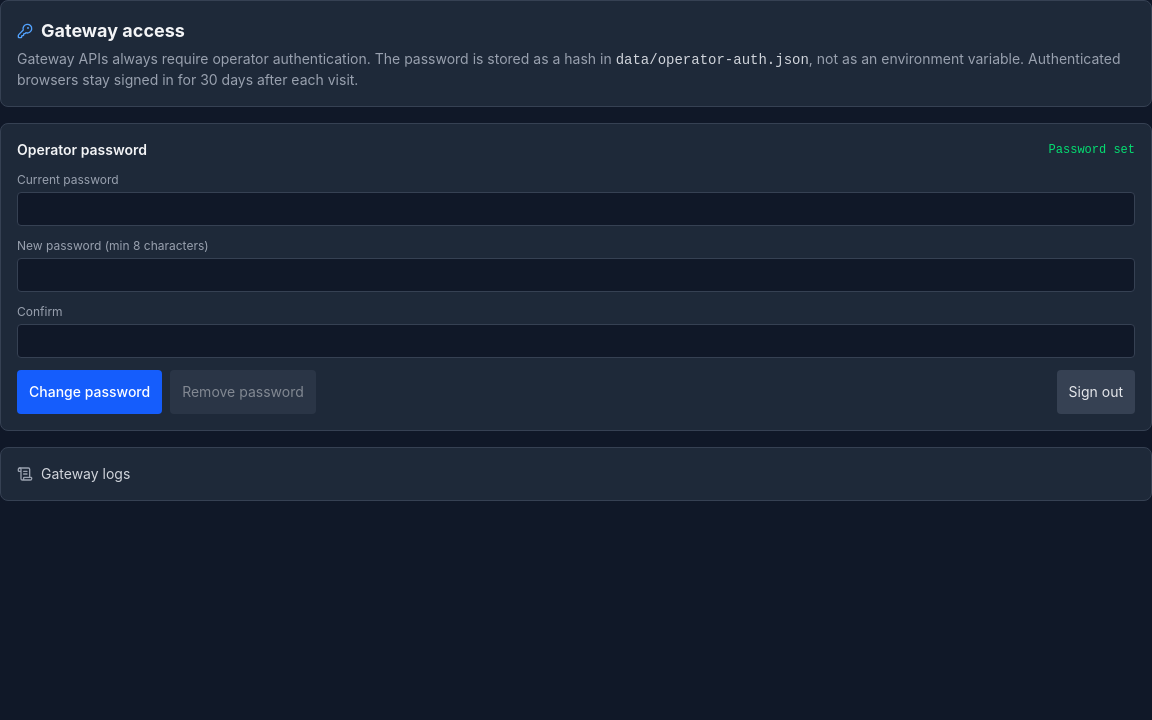
Test: GatewayAccess › sends the current password for password changes and removal
In the password field labelled "Current password": (576, 209) [17,192,1135,226], type "old-secret"
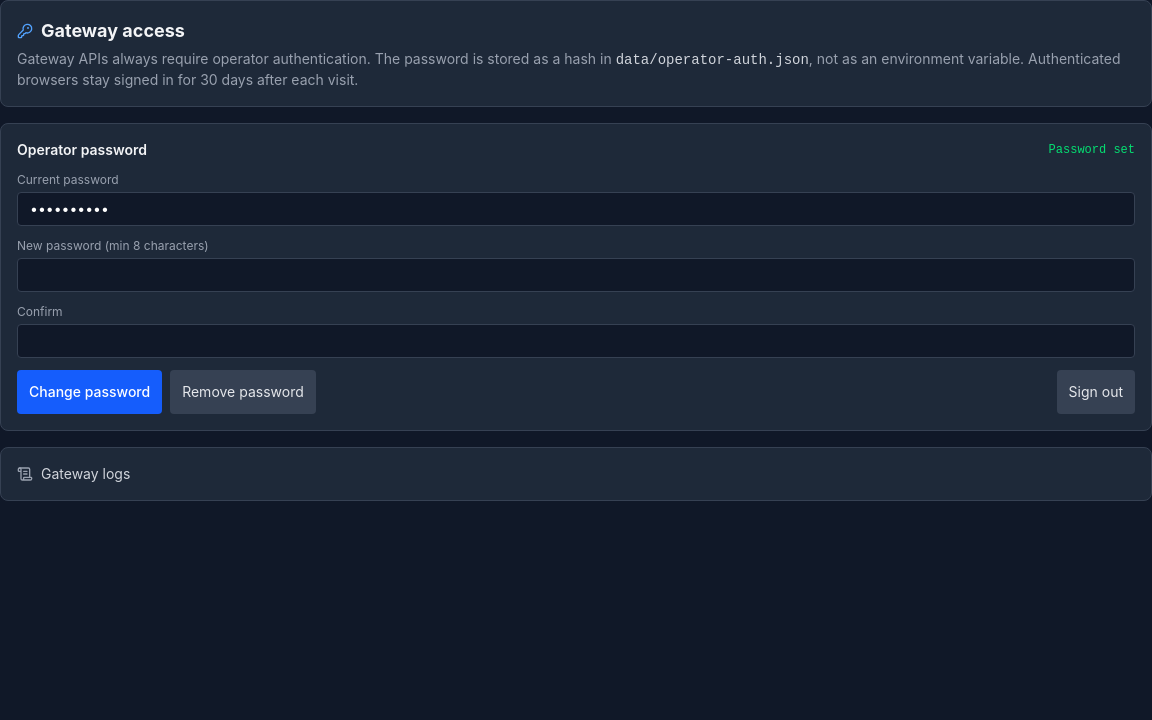
In the password field labelled "New password (min 8 characters)": (576, 275) [17,258,1135,292], type "new-secret"
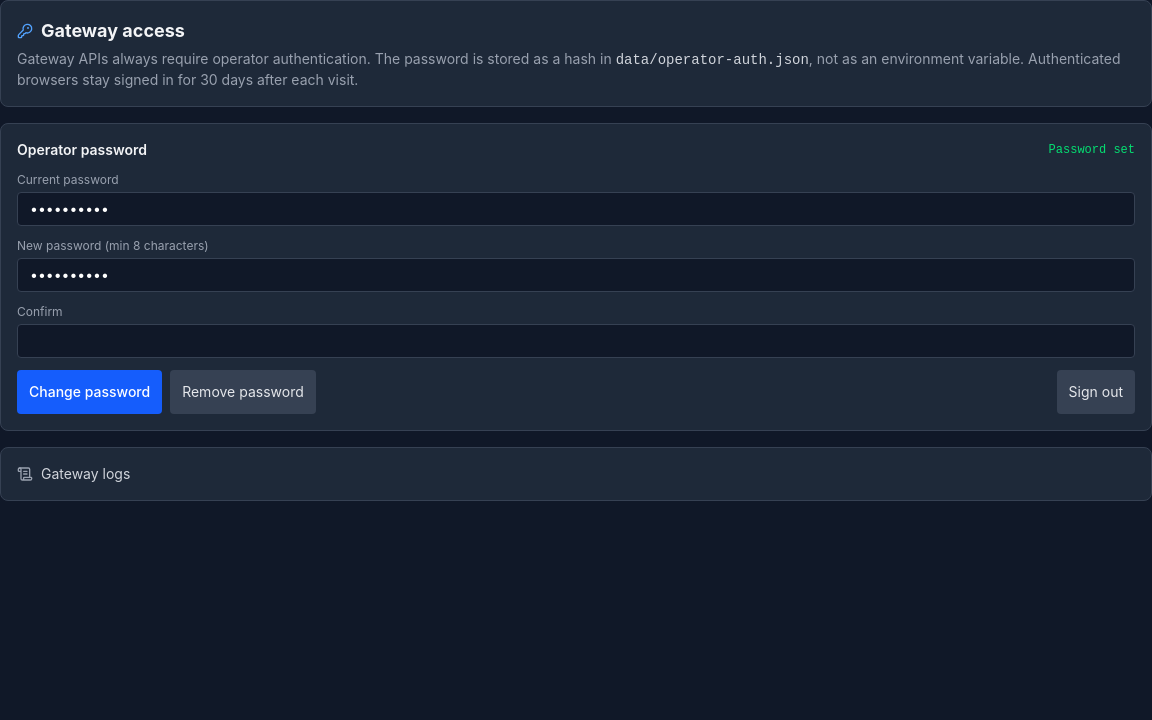
In the password field labelled "Confirm": (576, 341) [17,324,1135,358], type "new-secret"
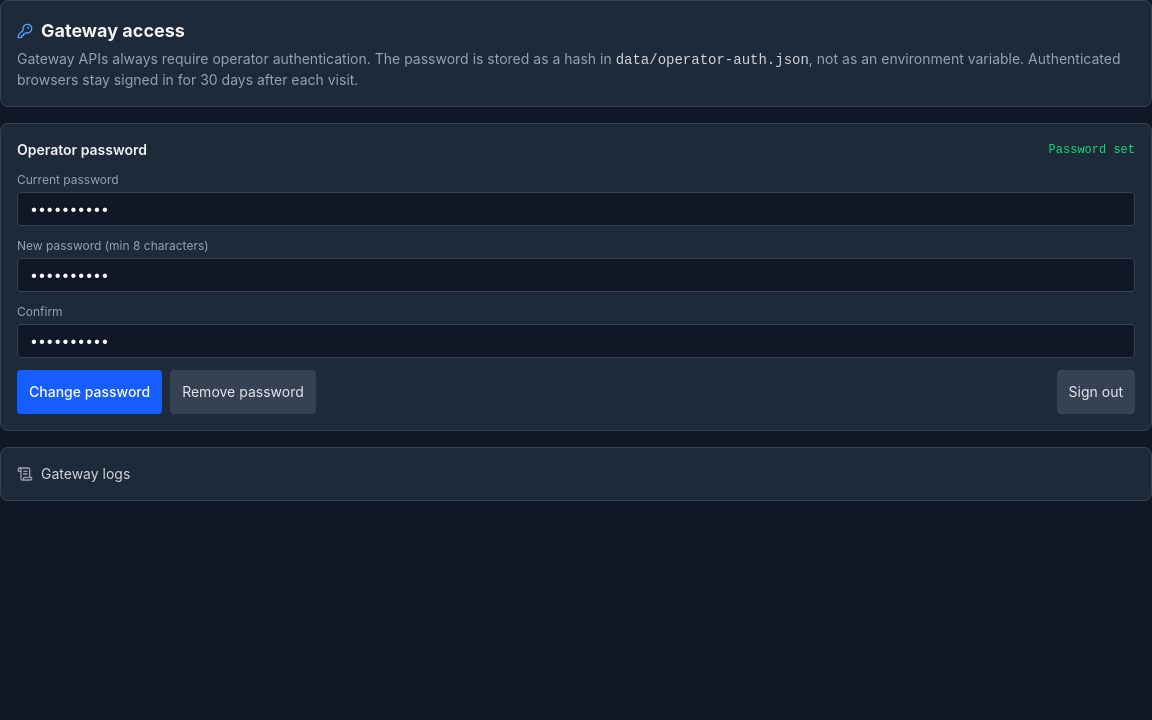
Click the button "Change password": (90, 392) [17,370,162,414]
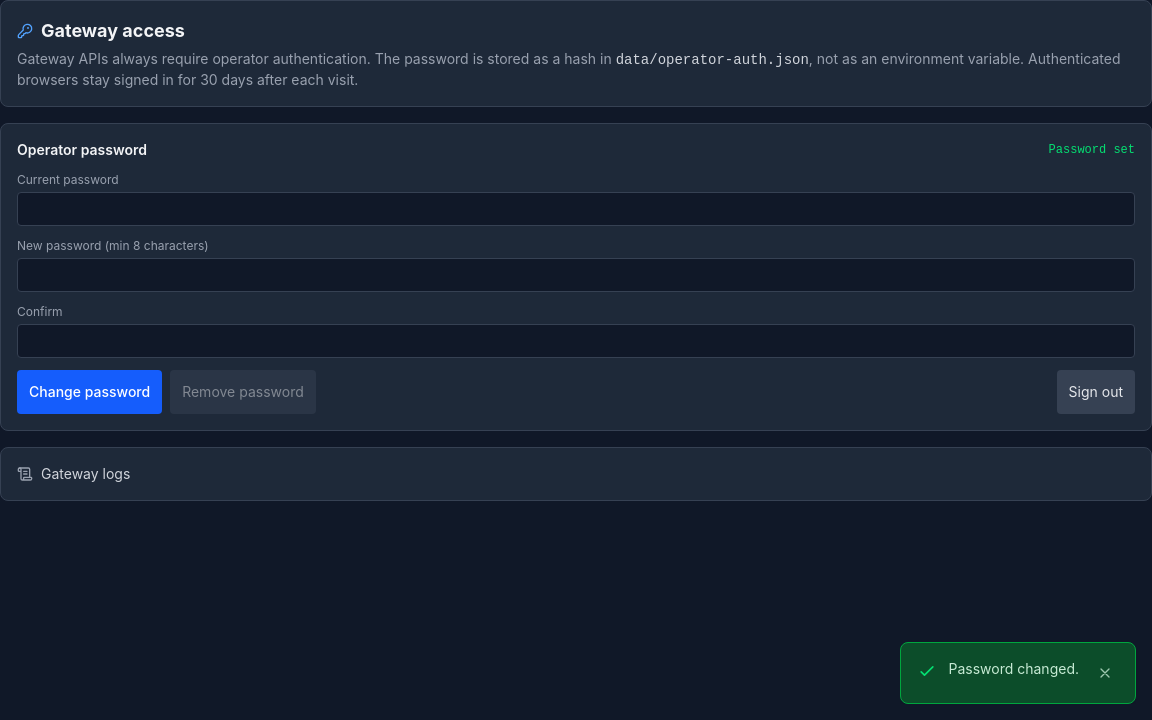
Result: the text "Password changed." is shown at [948,659,1079,679]
In the password field labelled "Current password": (576, 209) [17,192,1135,226], type "old-secret"
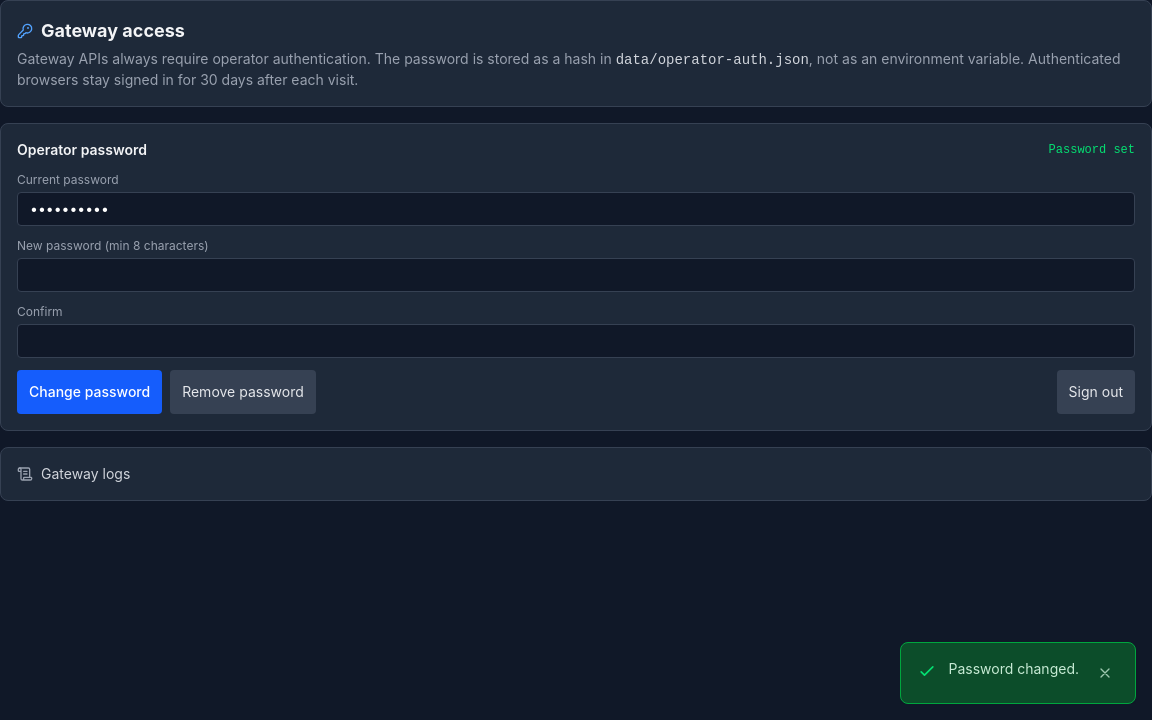
Click the button "Remove password": (243, 392) [170,370,316,414]
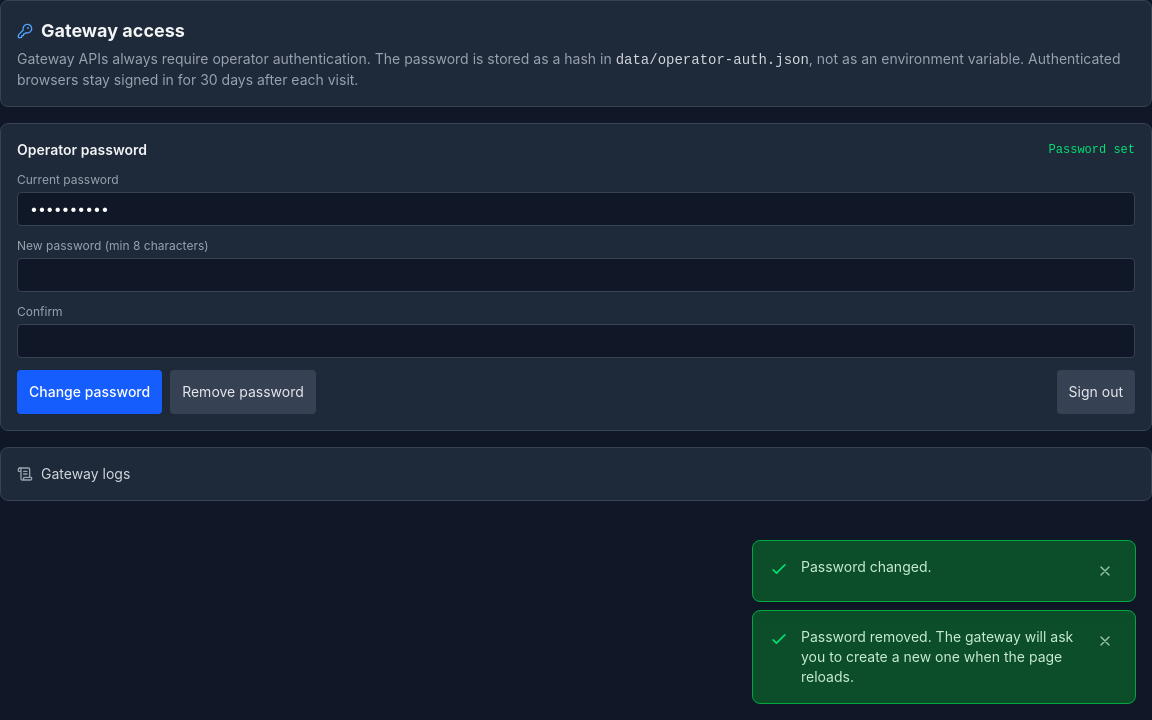
Result: the text "Password removed. The gateway will ask you to create a new one" is shown at [801,628,1073,685]
